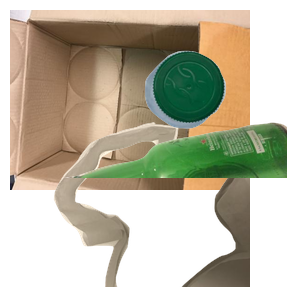cardboard: (10, 10, 250, 190)
glass: (60, 120, 300, 300)
plastic: (142, 48, 300, 169)
trash: (51, 120, 291, 300)
